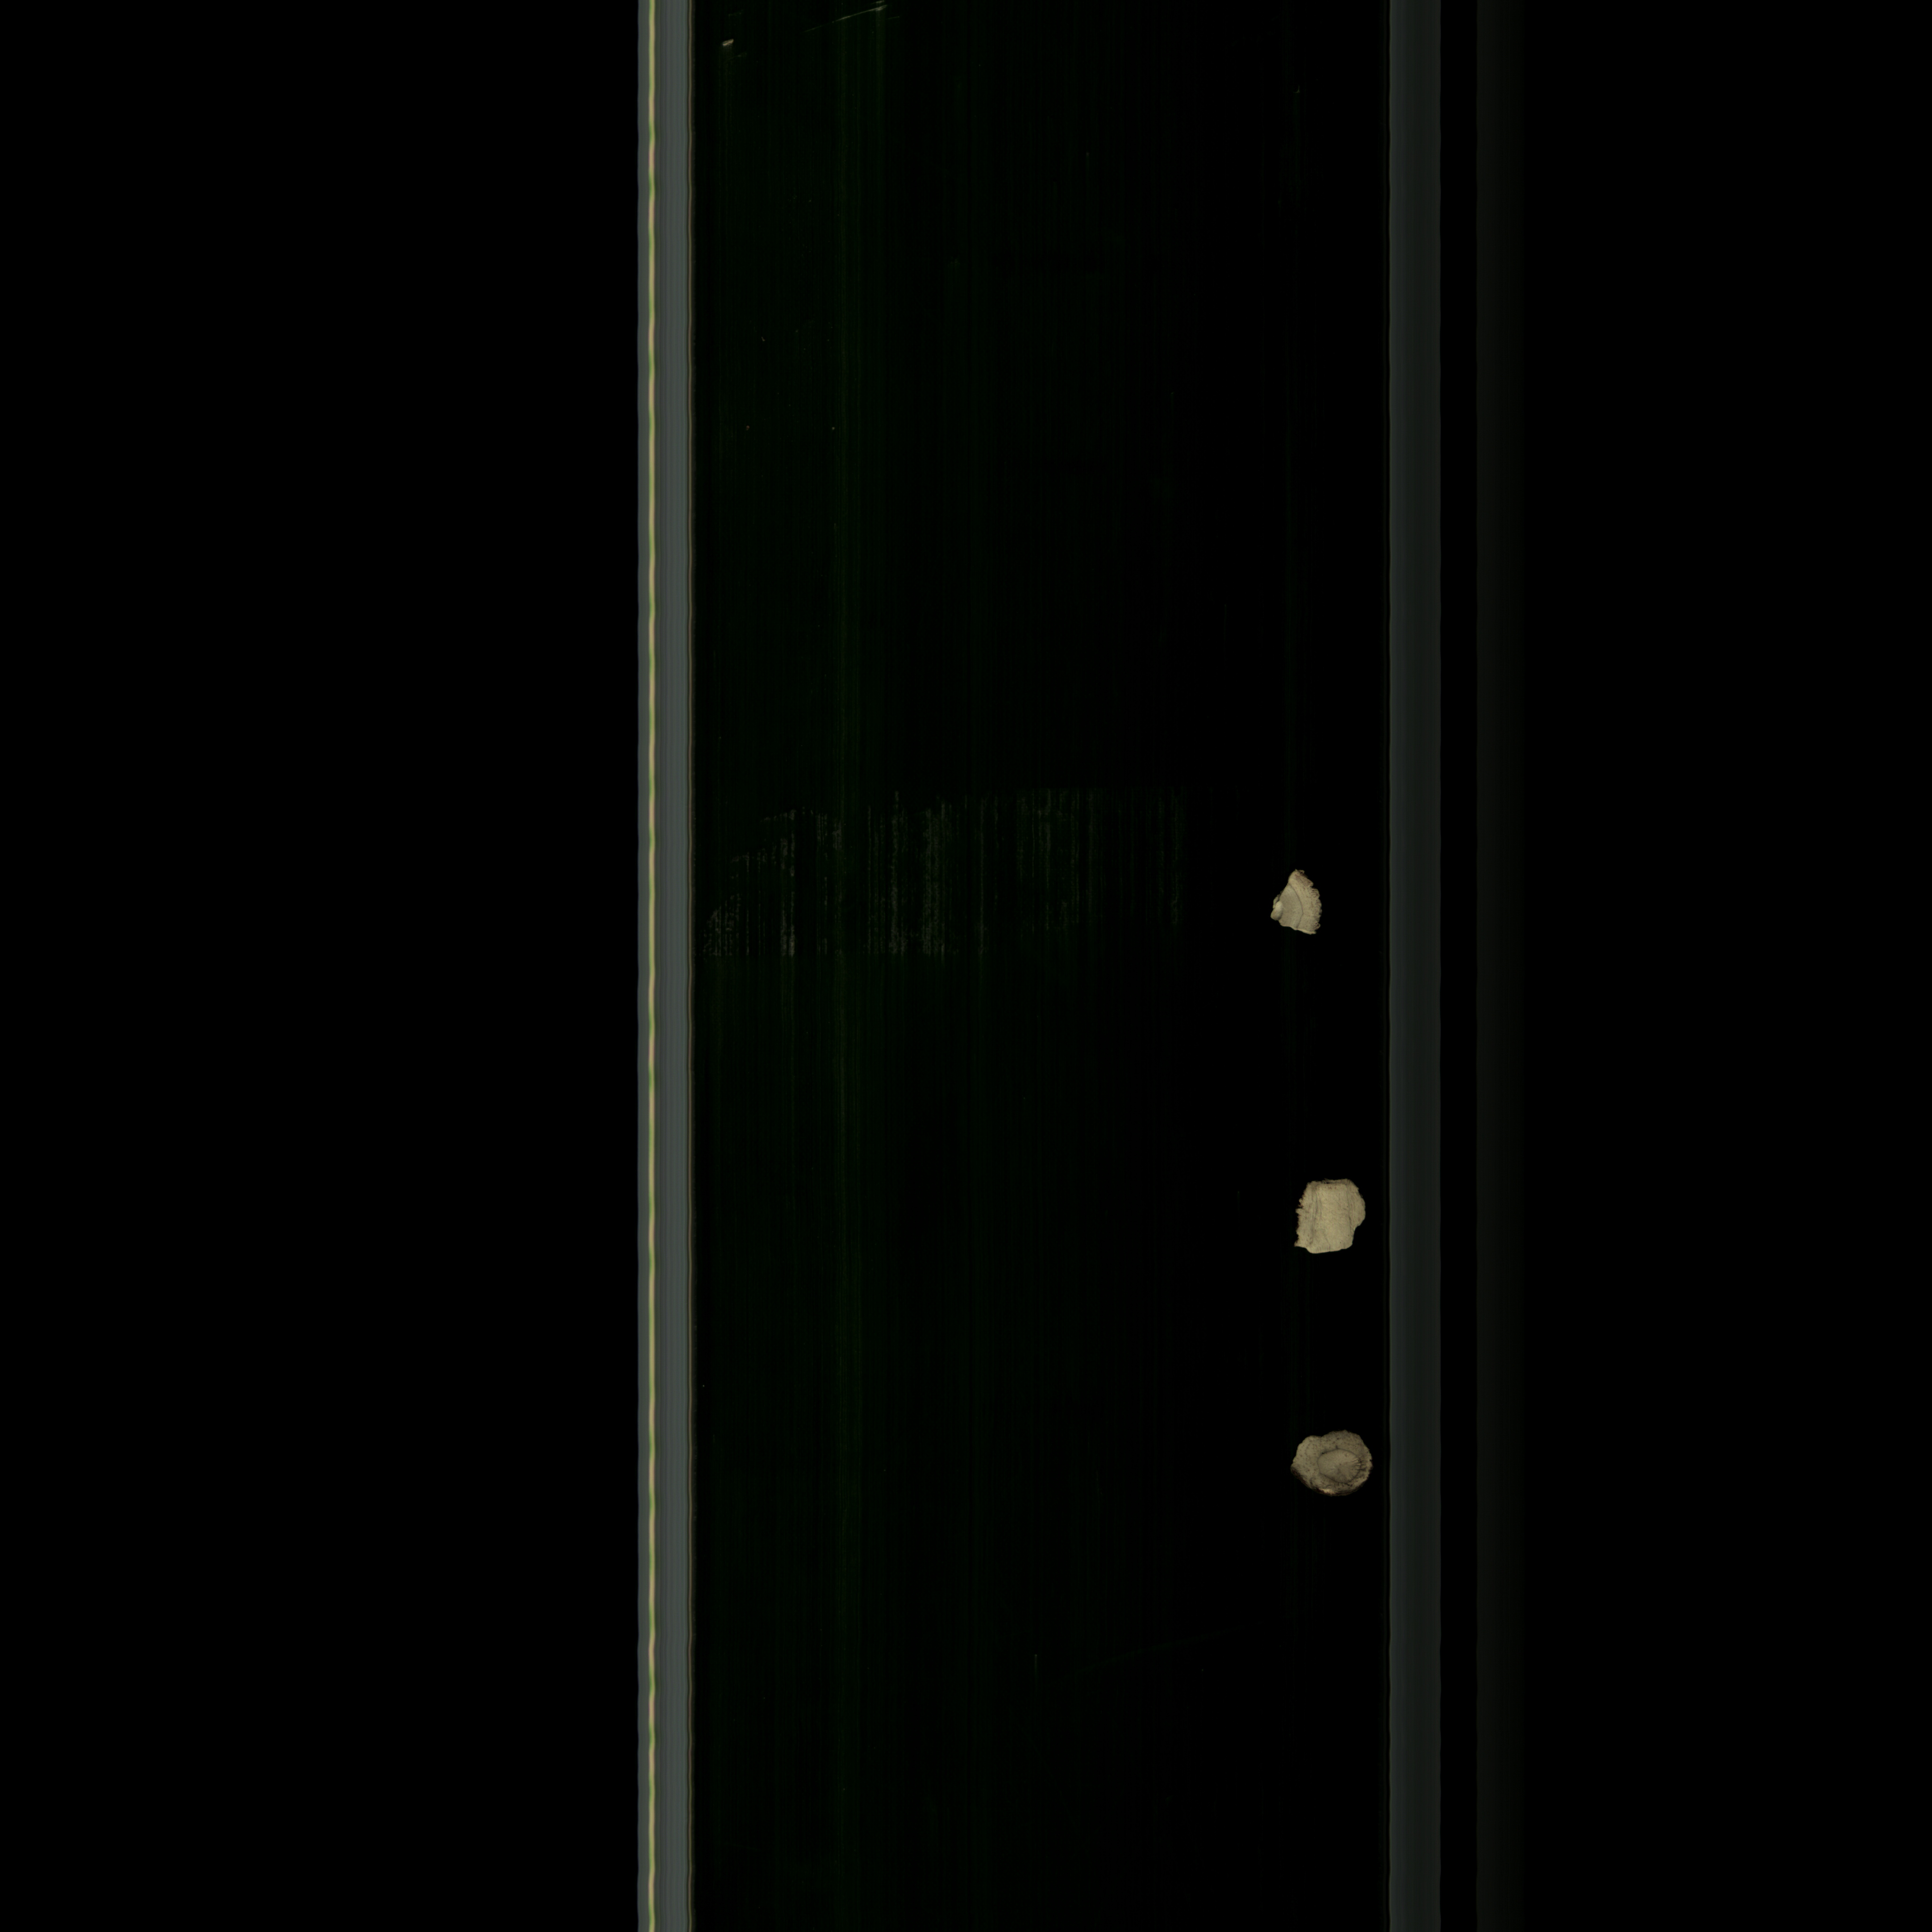debris: (1292, 1166, 1369, 1276), (1261, 856, 1339, 954)
moldy: (1286, 1421, 1378, 1504)
